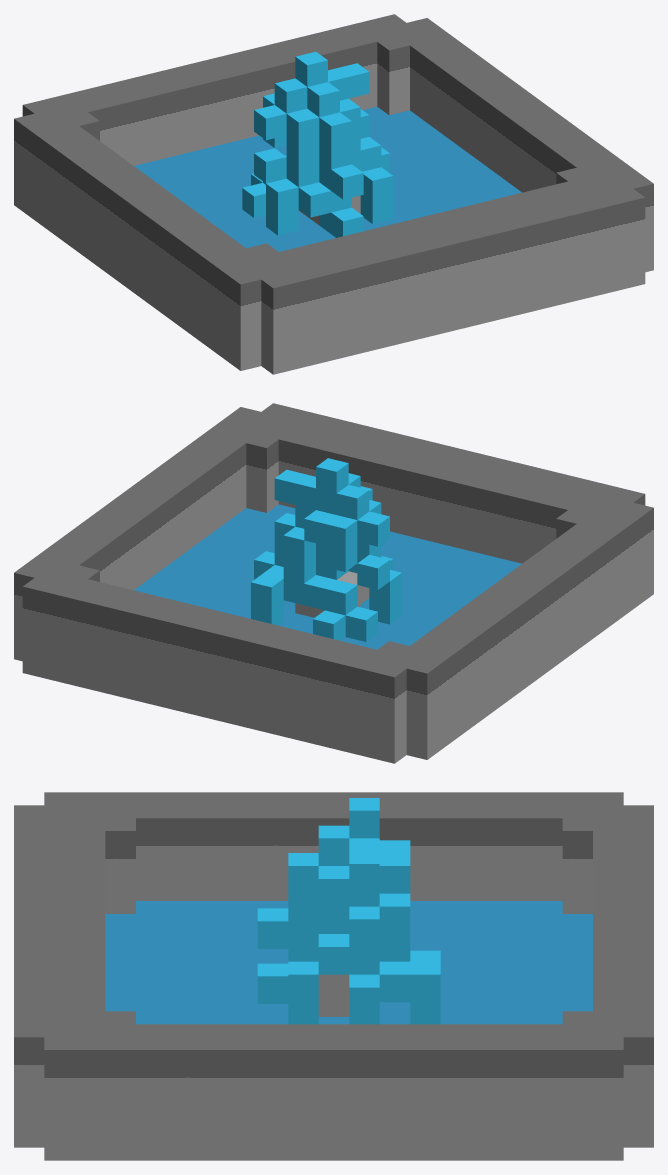
The model's file is obj_fountain.fbx.
3 renders of one model, top to bottom at view 1: azimuth 30°, elevation 25°; view 2: azimuth 150°, elevation 25°; view 3: azimuth 270°, elevation 25°, orthographic. The views are drawn at different scales.
Visible parts, largest first — view 1: obj_fountain; view 2: obj_fountain; view 3: obj_fountain.
Boxes of the visible parts, <box> form: obj_fountain: <box>14,14,653,374</box>; obj_fountain: <box>14,403,653,763</box>; obj_fountain: <box>14,792,653,1160</box>.
Bounding box in the file's own units: 2 × 2.1 × 0.8.
1 material, 1 textured.
